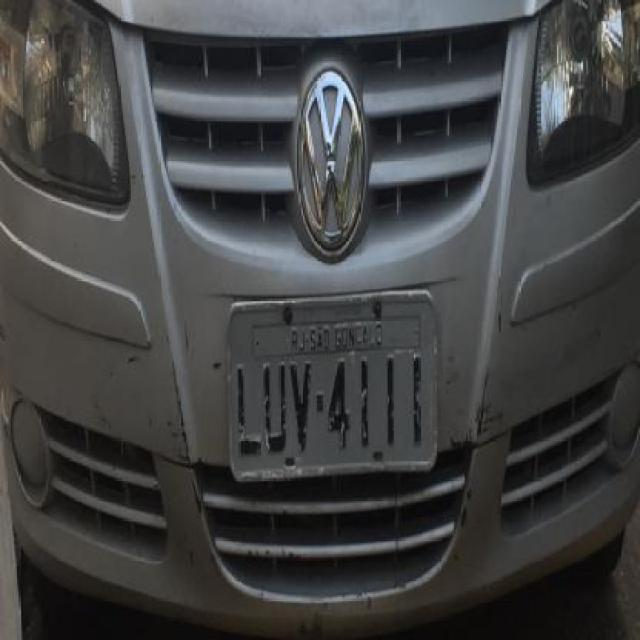old_plate: (220, 282, 446, 491)
